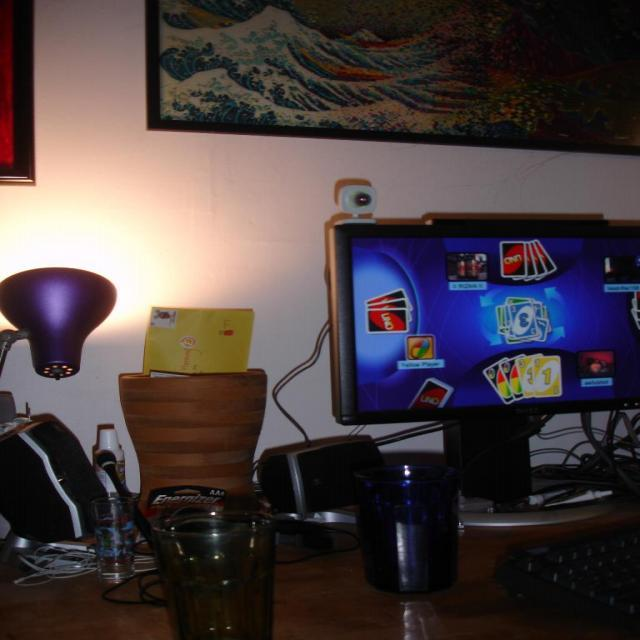others: (1, 156, 637, 616)
